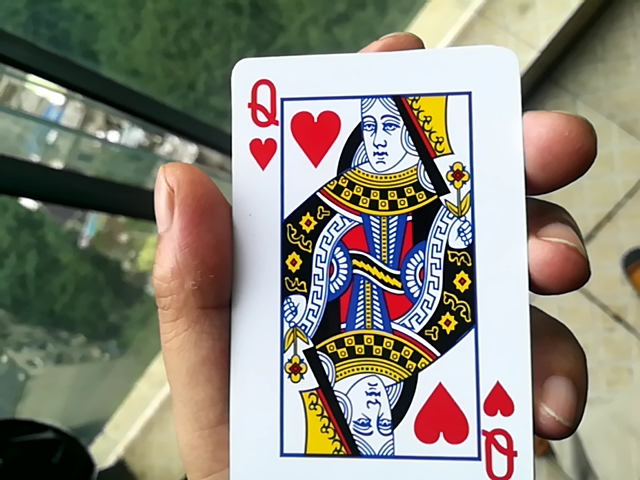hx q: (207, 44, 544, 478)
